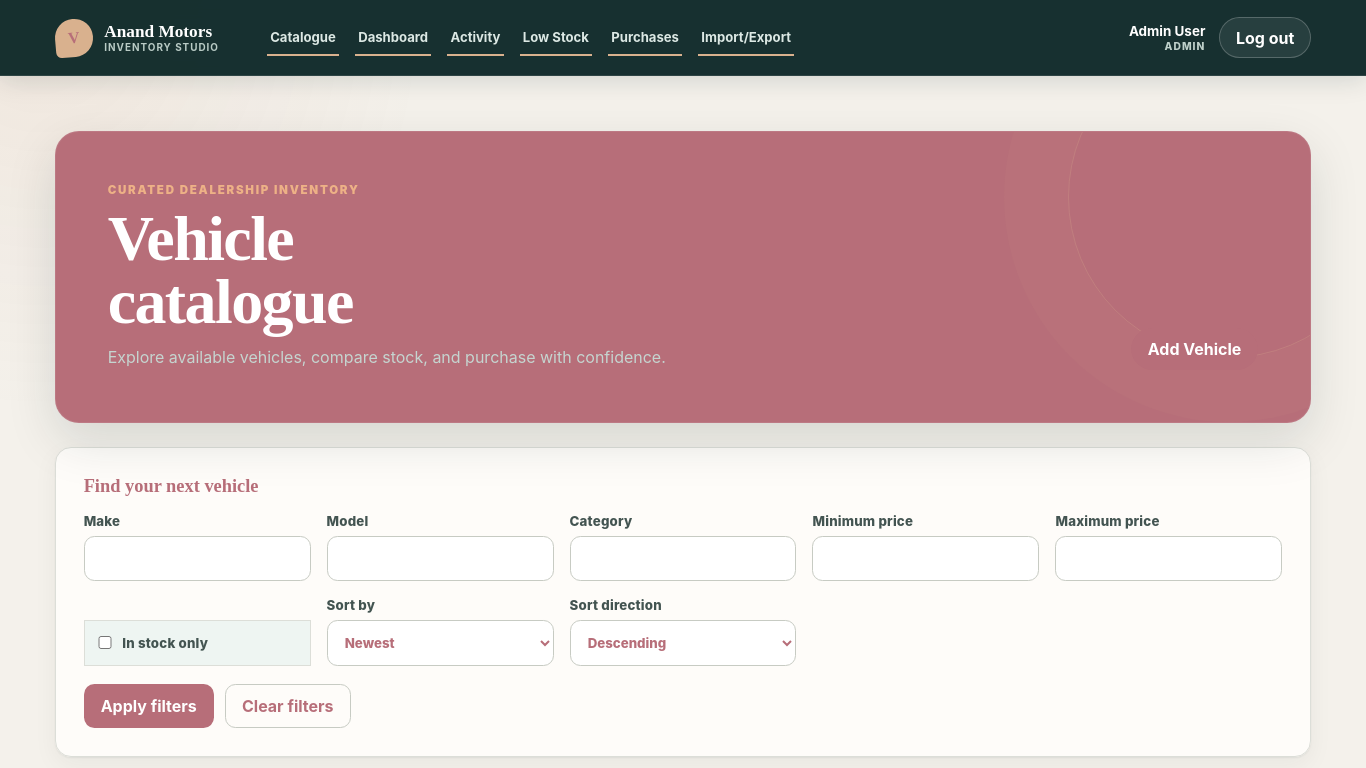
it: administrator vehicle creation › opens an accessible form and validates every required field
This screenshot has width=1366, height=768.
Click the button "Add Vehicle" at [1195, 349], box [1131,328,1258,370]
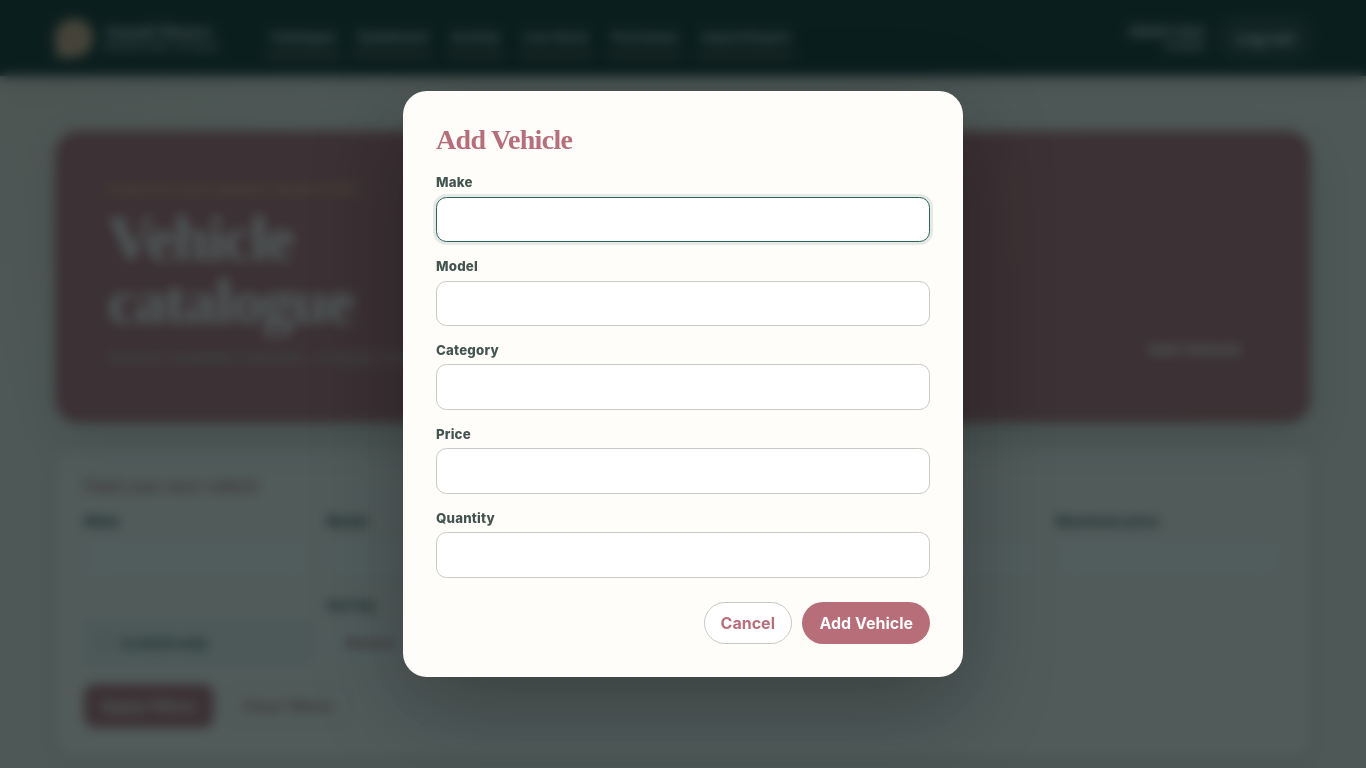
Check: the field labelled "Make" is shown, box [436,196,930,242]
Check: the field labelled "Model" is shown, box [436,280,930,326]
Check: the field labelled "Category" is shown, box [436,364,930,410]
Click the button "Add Vehicle" at [866, 623], box [802,602,930,644]
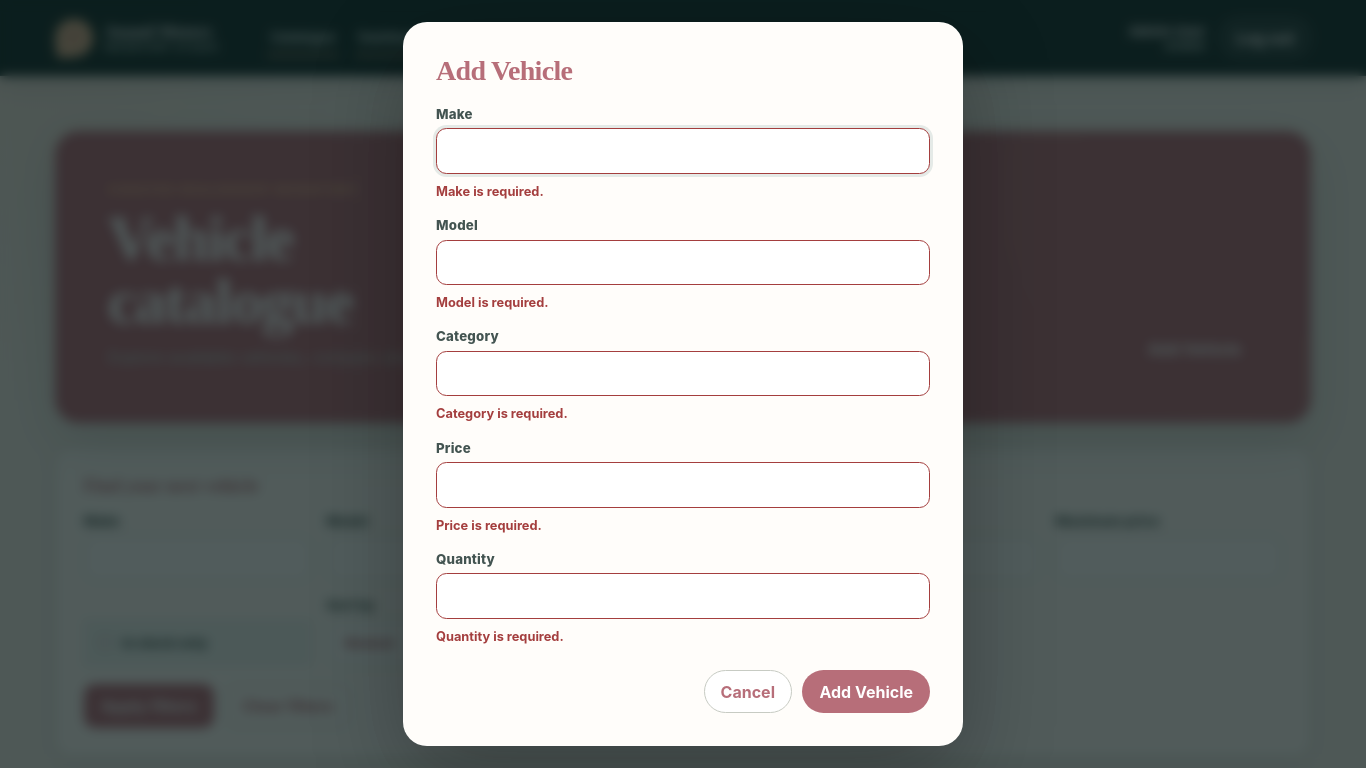
Check: the text "Make is required." is shown, box [436,184,544,199]
Check: the text "Model is required." is shown, box [436,295,548,310]
Check: the text "Category is required." is shown, box [436,406,568,421]
